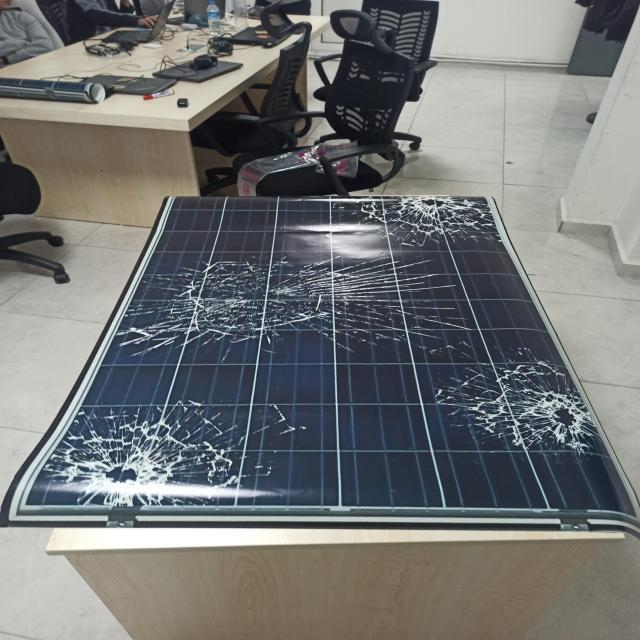faulty: (2, 206, 640, 534)
